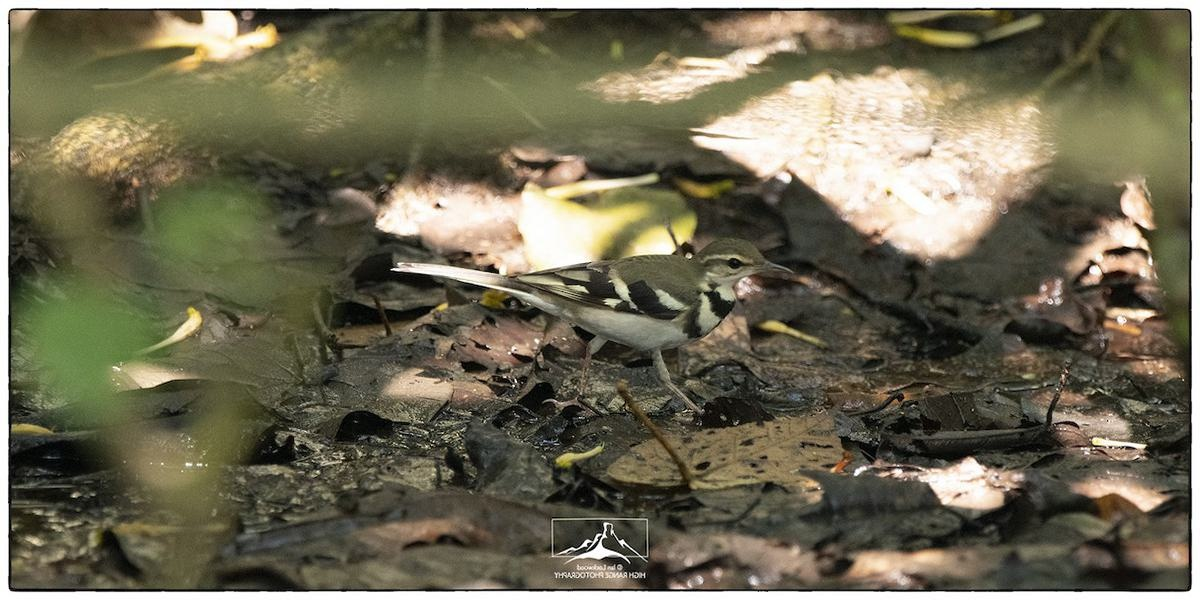wagtail: (418, 212, 850, 384)
